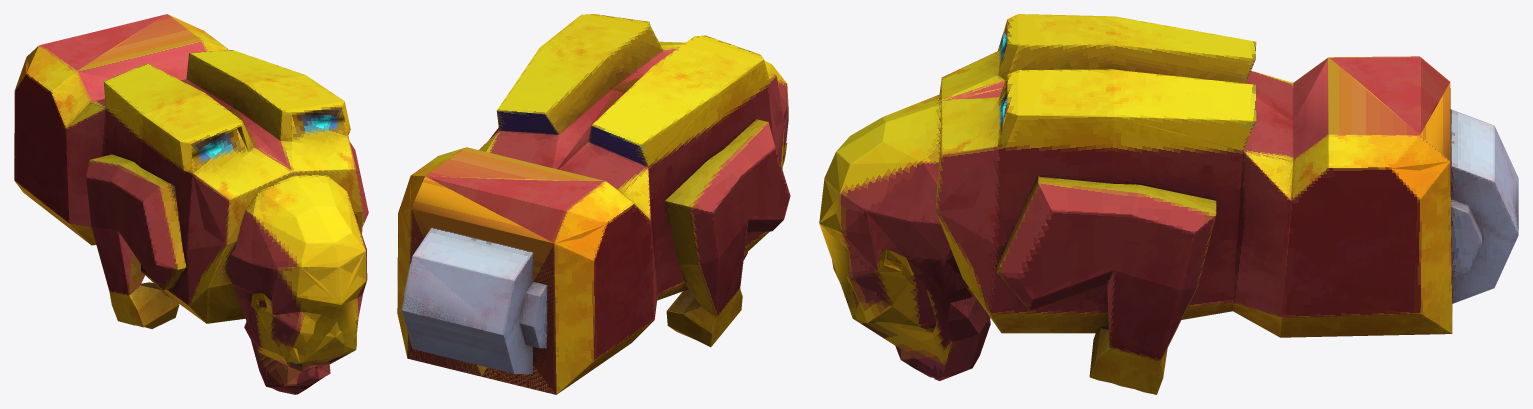
The model's file is item_animal_bot_gorilla.glb.
The picture shows the model from 3 angles, left to right: view 1: azimuth 30°, elevation 25°; view 2: azimuth 150°, elevation 25°; view 3: azimuth 270°, elevation 25°; orthographic projection. The views are drawn at different scales.
Parts seen in each view (by area): view 1: AnimalBot_Gorilla; view 2: AnimalBot_Gorilla; view 3: AnimalBot_Gorilla.
Part boxes in pixels (box(x1,y1,x2,y2)): AnimalBot_Gorilla: box(14, 14, 368, 394); AnimalBot_Gorilla: box(397, 14, 790, 394); AnimalBot_Gorilla: box(819, 14, 1518, 394).
Bounding box in the file's own units: 0.8056 × 0.9233 × 1.82.
1 material, 1 textured.
